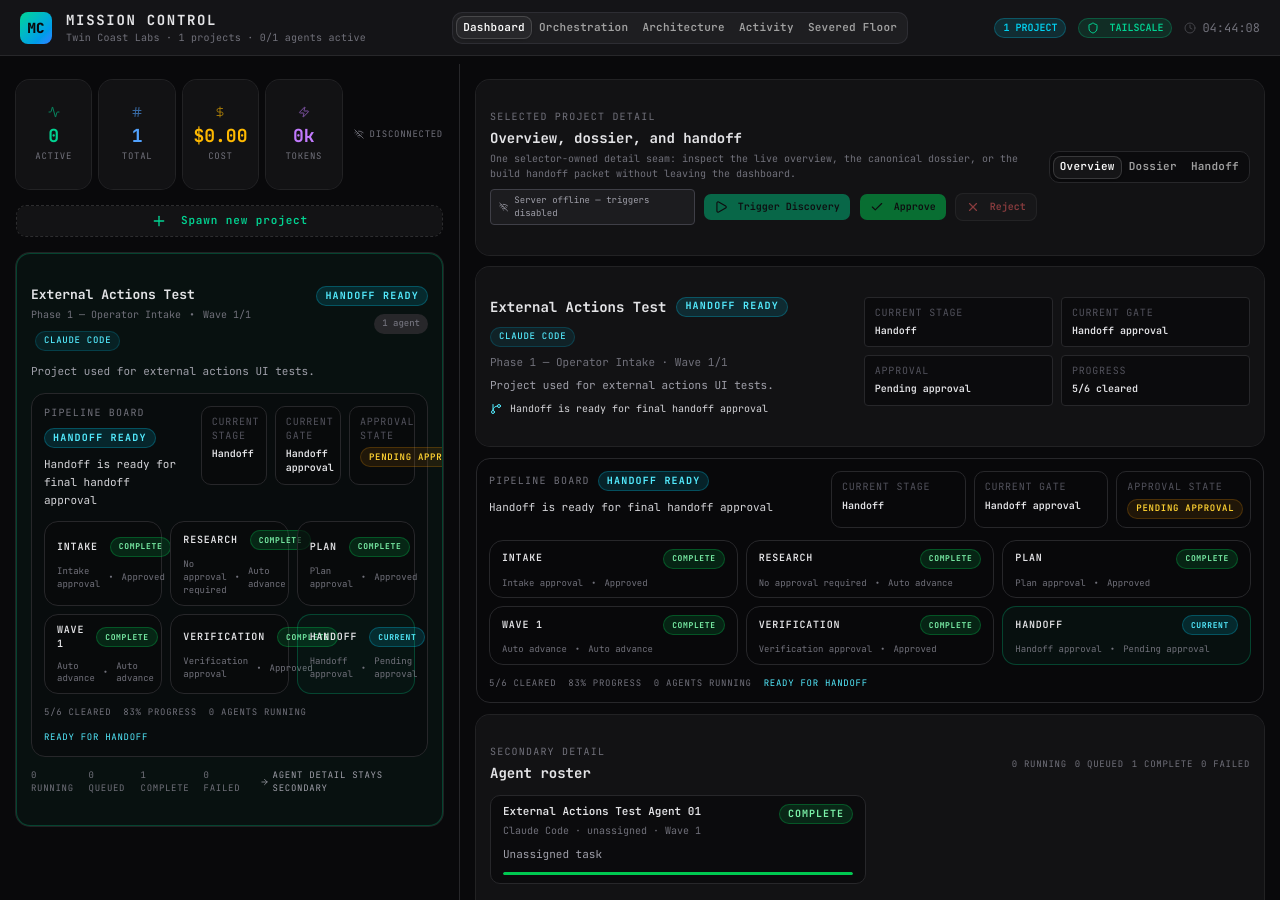
Test: ExternalActionsPanel UI › visibility › renders panel when project has external actions
Click the tab "Handoff" at coordinates (1215, 167), box [1184,156,1246,179]
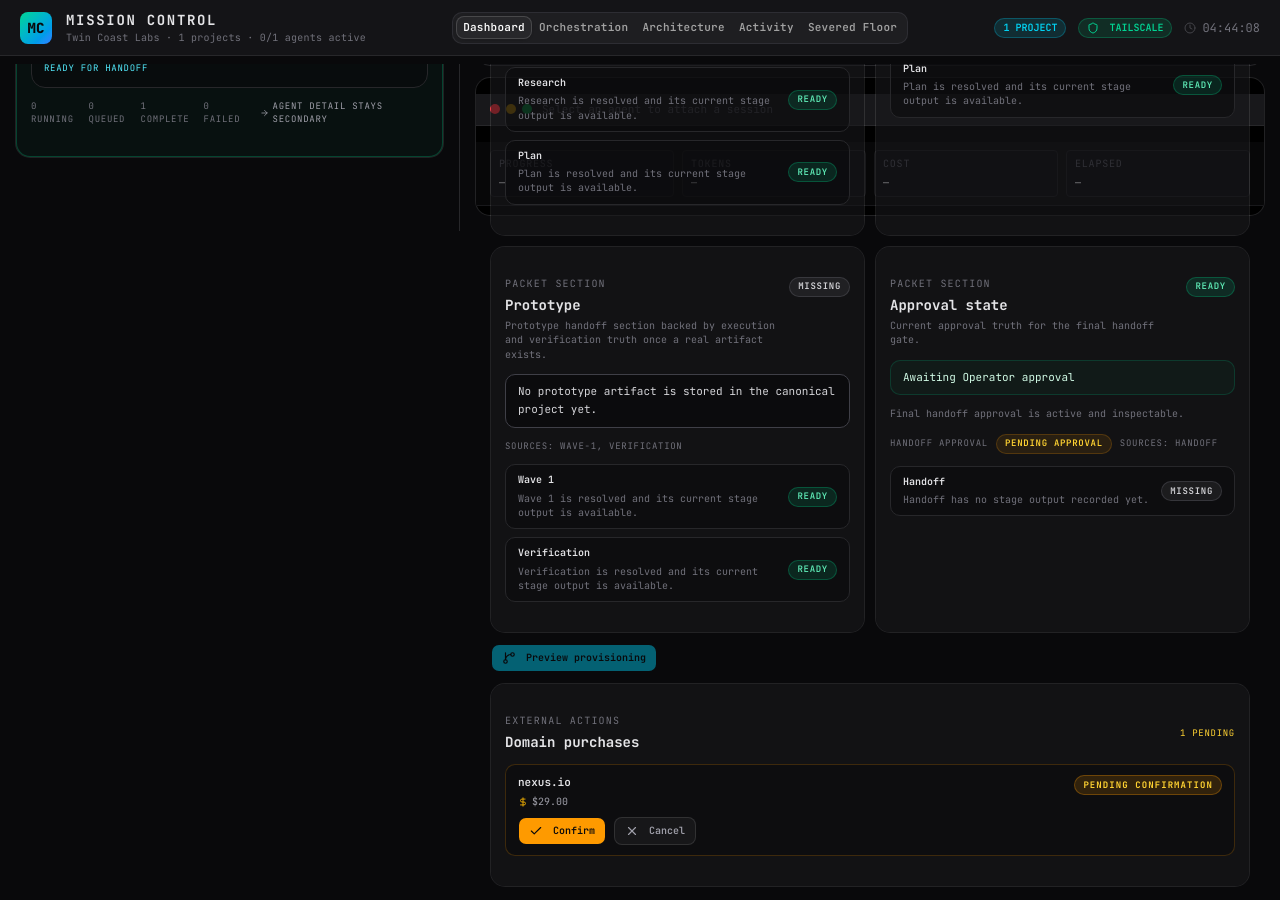
Expected: the element with test id "external-actions-panel" is shown, [491,684,1249,886]
